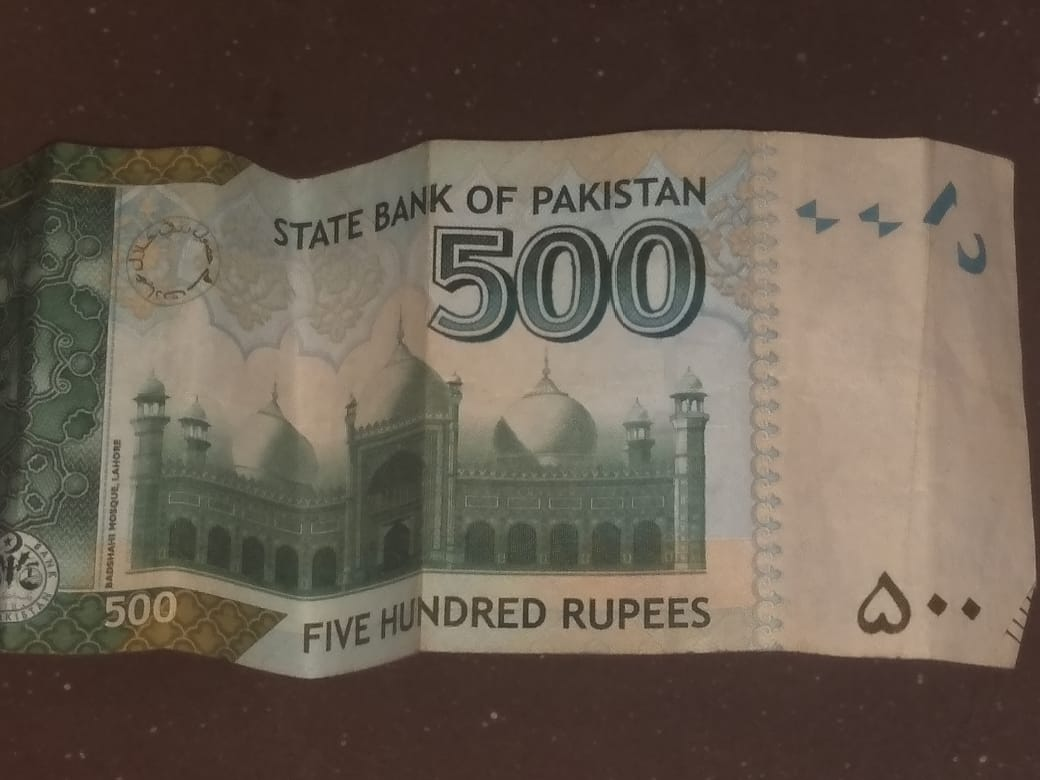500 rupee: (22, 124, 1023, 669)
